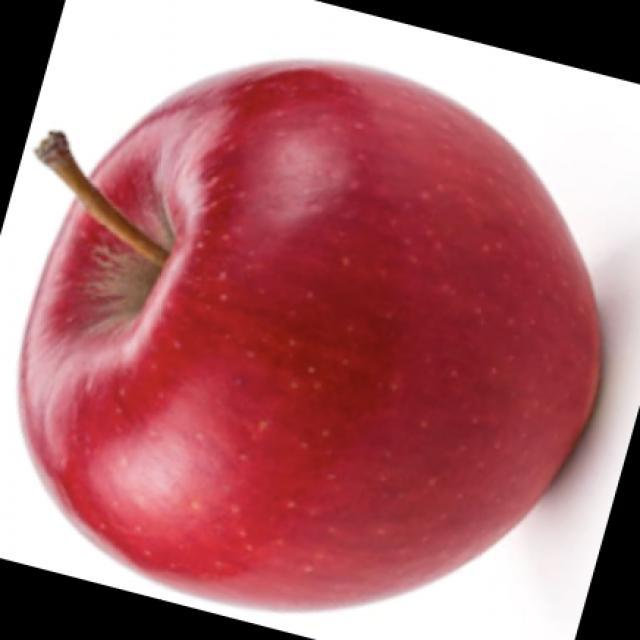Fresh Apple: (43, 58, 590, 610)
